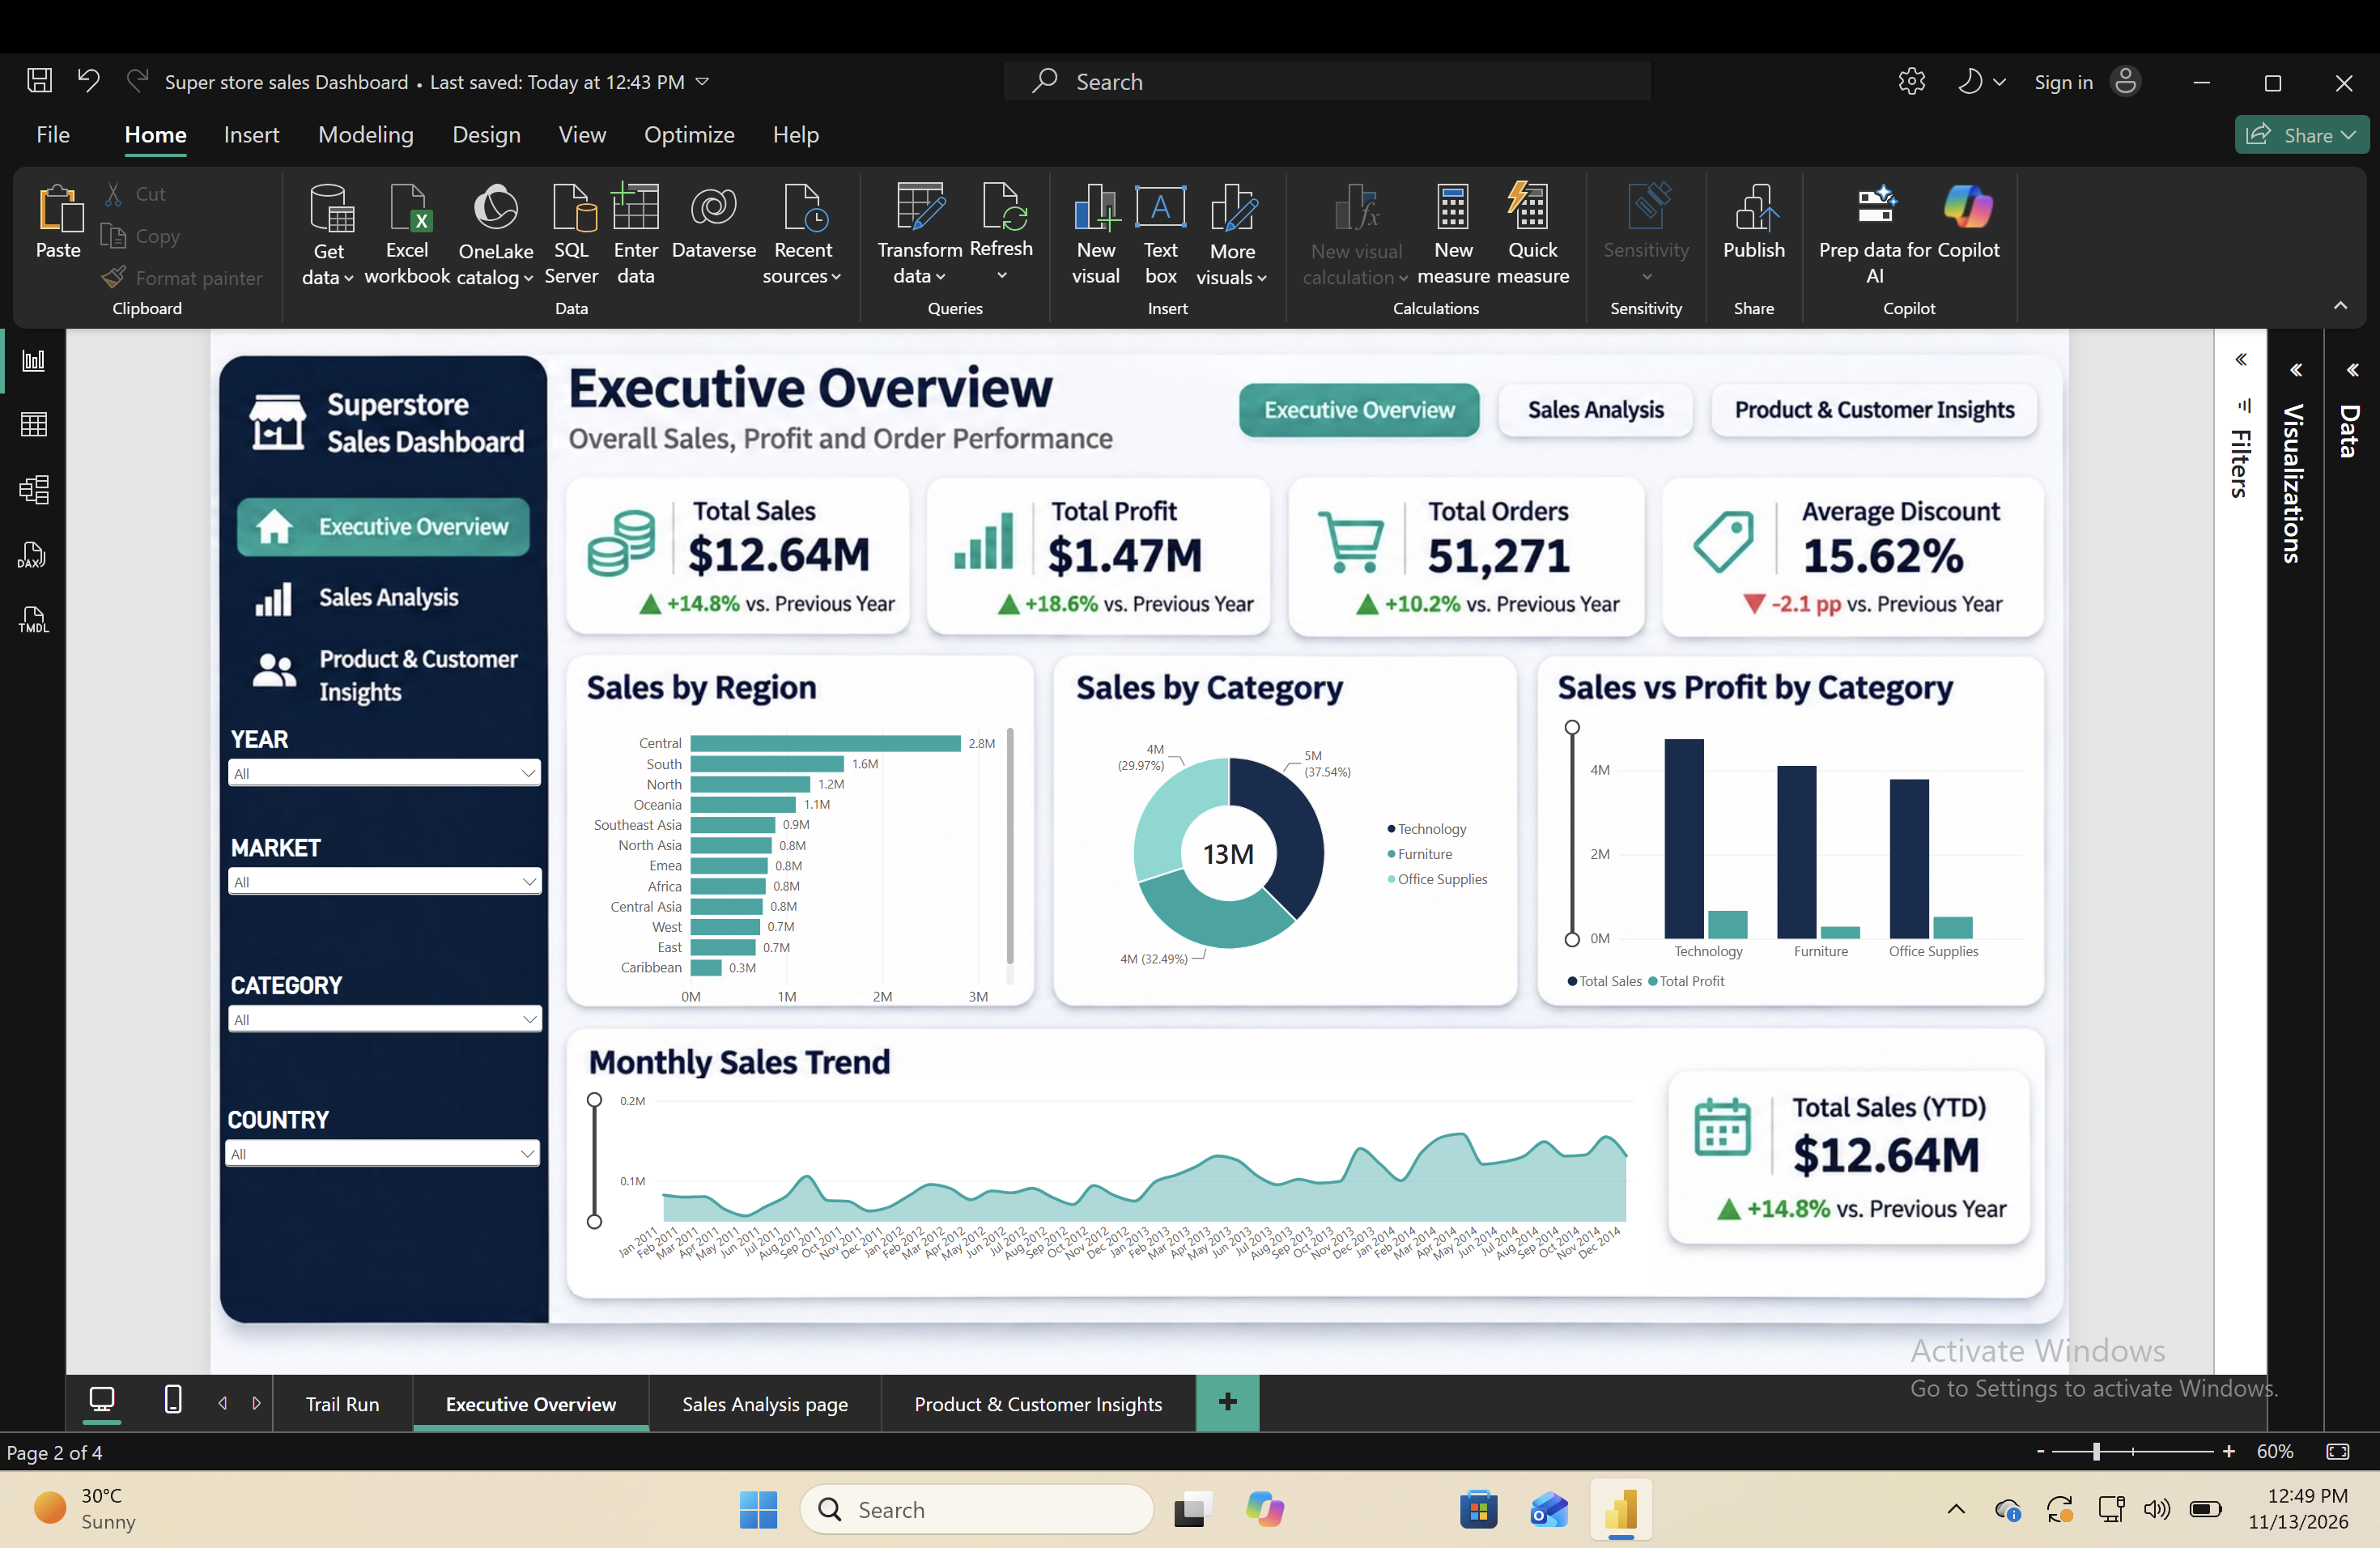

This screenshot's page, from the dashboard's own definition file:
{"tool":"powerbi","page":{"name":"Executive Overview","canvas":[1920,1080],"ordinal":1},"visuals":[{"type":"image","box":[0,0,1920,1080],"z":0},{"type":"barChart","title":"Sales by Region","fields":{"Category":["cleaned_dataset.region"],"Y":["cleaned_dataset.Total Sales"]},"box":[372.8,389.5,473.1,331],"z":1000},{"type":"donutChart","title":"Sales by Category.","fields":{"Category":["cleaned_dataset.category"],"Y":["cleaned_dataset.Total Sales"]},"box":[874.4,352.8,469.8,379.5],"z":2000},{"type":"clusteredColumnChart","title":"Sales vs Profit by Category","fields":{"Category":["cleaned_dataset.category"],"Y":["cleaned_dataset.Total Sales","cleaned_dataset.Total Profit"]},"box":[1384.3,389.5,503.2,314.3],"z":3000},{"type":"lineChart","title":"Monthly Sales Trend","fields":{"Category":["cleaned_dataset.Month Year"],"Y":["cleaned_dataset.Total Sales"]},"box":[374,774,1112,222],"z":4000},{"type":"slicer","fields":{"Values":["cleaned_dataset.year"]},"box":[13.4,410.3,333,79.4],"z":5000},{"type":"slicer","fields":{"Values":["cleaned_dataset.market"]},"box":[13.4,521.6,334,102.1],"z":6000},{"type":"slicer","fields":{"Values":["cleaned_dataset.category"]},"box":[12.7,663.6,334.5,81.8],"z":7000},{"type":"slicer","fields":{"Values":["cleaned_dataset.country"]},"box":[10.4,802.1,335.4,83.3],"z":8000}]}

Visuals, with their boxes on the page's 1920x1080 design canvas (x1, y1, x2, y2). These are canvas units, not pixel positions in the 2380x1548 screenshot, which may show the page scaled, cropped or inside an application window:
image: BBox(0, 0, 1920, 1080)
"Sales by Region" barChart: BBox(373, 390, 846, 720)
"Sales by Category." donutChart: BBox(874, 353, 1344, 732)
"Sales vs Profit by Category" clusteredColumnChart: BBox(1384, 390, 1888, 704)
"Monthly Sales Trend" lineChart: BBox(374, 774, 1486, 996)
slicer - cleaned_dataset.year: BBox(13, 410, 346, 490)
slicer - cleaned_dataset.market: BBox(13, 522, 347, 624)
slicer - cleaned_dataset.category: BBox(13, 664, 347, 745)
slicer - cleaned_dataset.country: BBox(10, 802, 346, 885)
